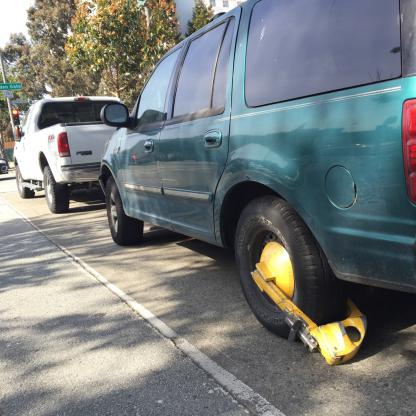Car: (97, 0, 415, 366), (0, 157, 9, 175)
Truck: (13, 96, 131, 214)
